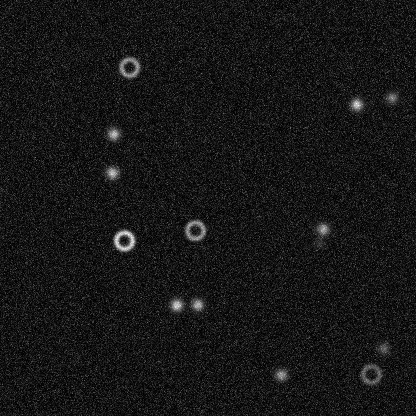Ring: (117, 55, 141, 79), (112, 228, 136, 252), (359, 362, 383, 386), (183, 218, 207, 242)
Spot: (273, 366, 289, 382), (105, 126, 121, 142), (168, 296, 184, 312), (375, 340, 391, 356), (104, 164, 120, 180), (311, 234, 327, 250), (348, 96, 364, 112), (314, 220, 330, 236), (189, 296, 205, 312), (383, 89, 399, 105)
